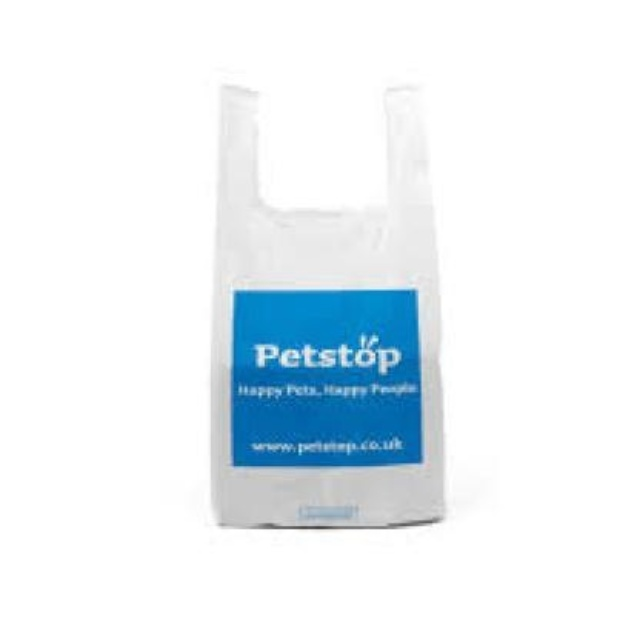trash: (212, 85, 443, 525)
